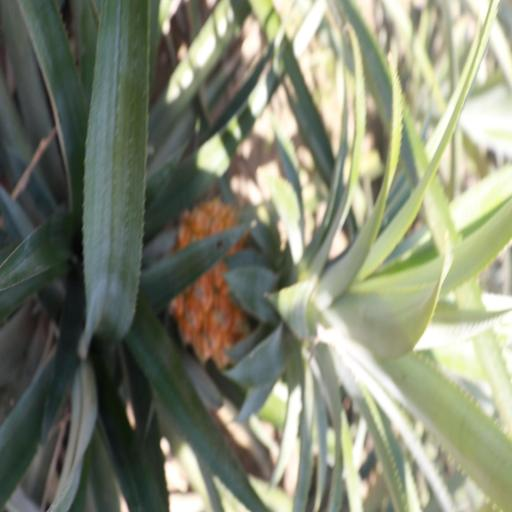Pineapple - v8 v1: (174, 203, 445, 370)
